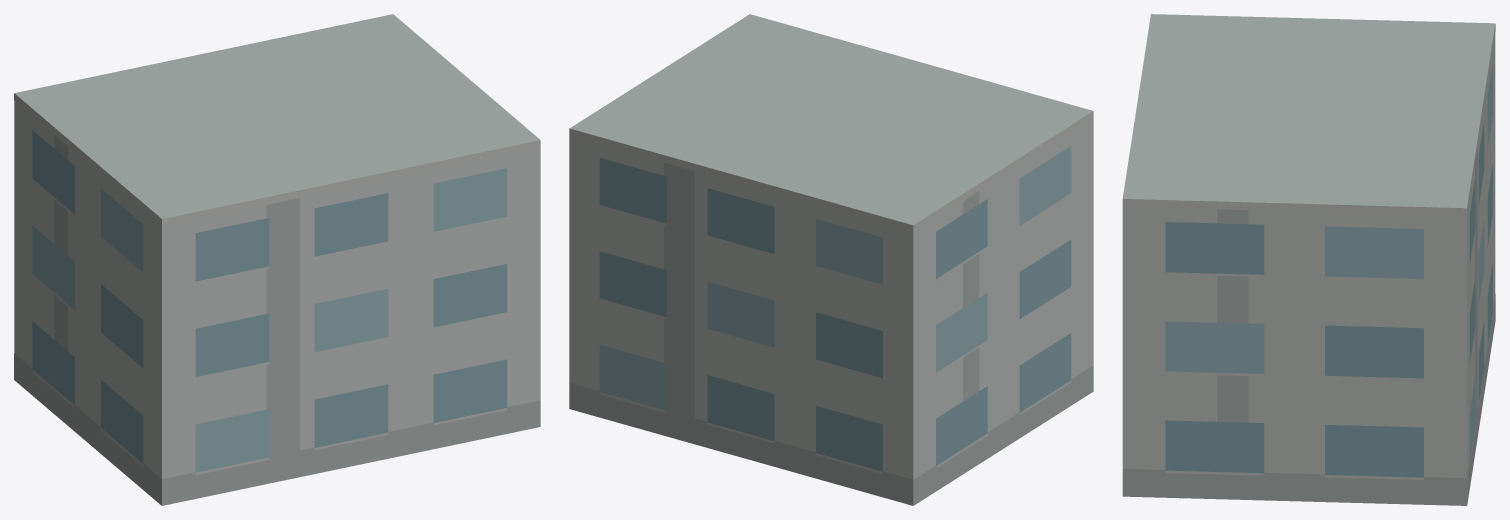
File: residential-83cdcade-8e28-4b65-ab99-cb878b64a2eb.glb
The picture shows the model from 3 angles, left to right: view 1: azimuth 30°, elevation 25°; view 2: azimuth 150°, elevation 25°; view 3: azimuth 270°, elevation 25°; orthographic projection. The views are drawn at different scales.
Visible parts, largest first — view 1: residential-83cdcade-8e28-4b65-ab99-cb878b64a2eb.tmp; view 2: residential-83cdcade-8e28-4b65-ab99-cb878b64a2eb.tmp; view 3: residential-83cdcade-8e28-4b65-ab99-cb878b64a2eb.tmp.
Boxes of the visible parts, box(x1,y1,x2,y2) form: residential-83cdcade-8e28-4b65-ab99-cb878b64a2eb.tmp: box(14, 14, 540, 505); residential-83cdcade-8e28-4b65-ab99-cb878b64a2eb.tmp: box(569, 14, 1093, 505); residential-83cdcade-8e28-4b65-ab99-cb878b64a2eb.tmp: box(1122, 14, 1495, 505).
Bounding box in the file's own units: 12.82 × 9.15 × 10.4.
